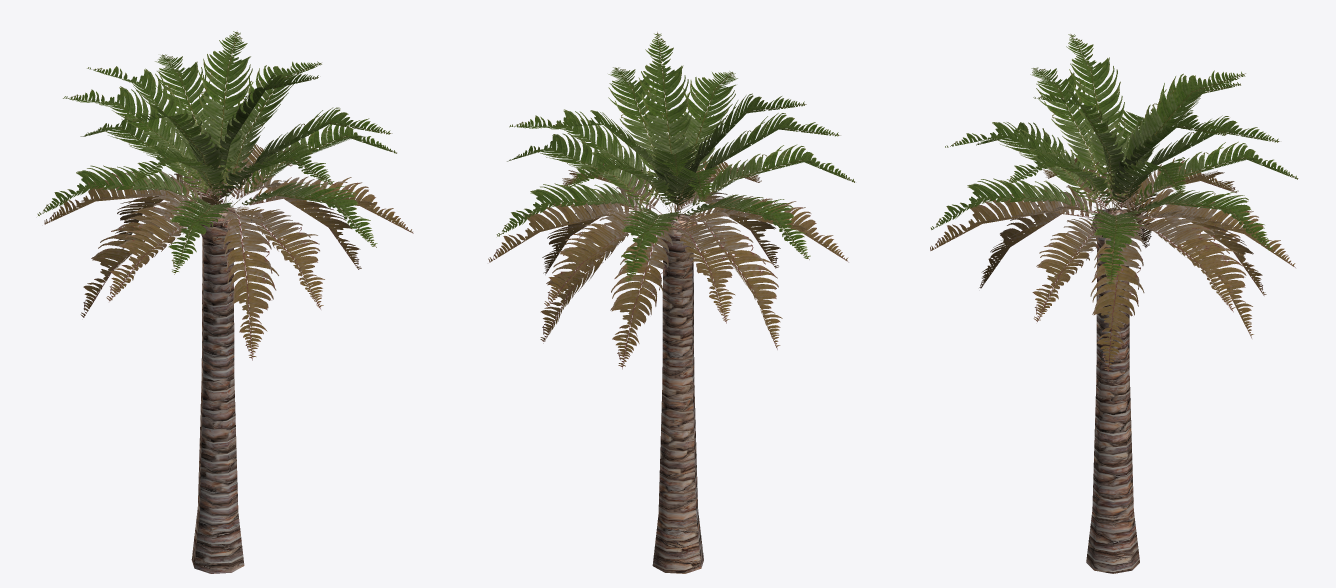
Rendered from PhoenixPalm.fbx.
The picture shows the model from 3 angles, left to right: view 1: azimuth 30°, elevation 25°; view 2: azimuth 150°, elevation 25°; view 3: azimuth 270°, elevation 25°; orthographic projection. The views are drawn at different scales.
Visible parts, largest first — view 1: PhoenixPalm_d.010; view 2: PhoenixPalm_d.010; view 3: PhoenixPalm_d.010.
Part boxes in pixels (x1=…): PhoenixPalm_d.010: x1=37, y1=31, x2=413, y2=573; PhoenixPalm_d.010: x1=488, y1=32, x2=854, y2=573; PhoenixPalm_d.010: x1=930, y1=34, x2=1298, y2=573.
Size of the model in its own units: 989 by 1327 by 980.
Materials: 2 (2 with a texture image).
